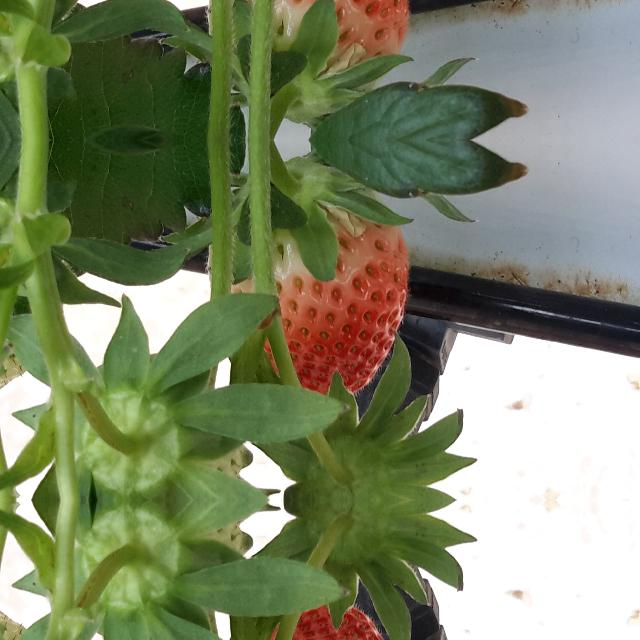Health_100: (219, 208, 409, 394), (219, 0, 409, 72)
